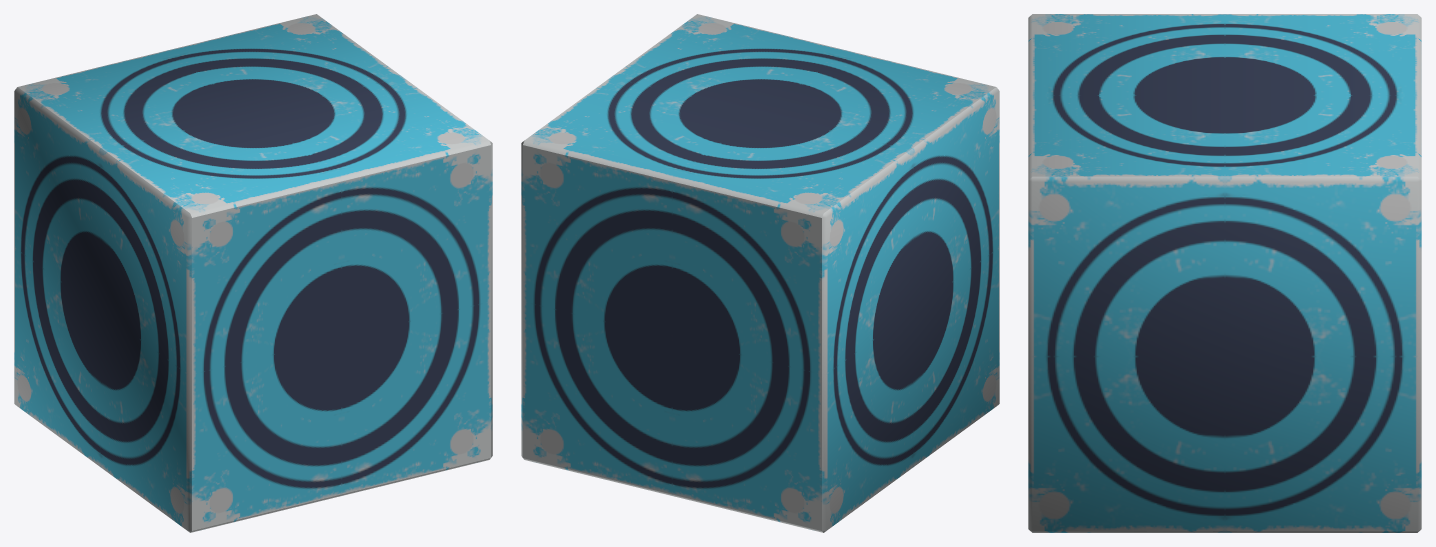
The model's file is box-special.gltf.
The picture shows the model from 3 angles, left to right: view 1: azimuth 30°, elevation 25°; view 2: azimuth 150°, elevation 25°; view 3: azimuth 270°, elevation 25°; orthographic projection. The views are drawn at different scales.
Parts seen in each view (by area): view 1: box_low; view 2: box_low; view 3: box_low.
Boxes of the visible parts, x1,y1,x2,y2 form: box_low: (14,14,492,532); box_low: (521,14,999,532); box_low: (1028,14,1421,532).
Bounding box in the file's own units: 60 × 60 × 60.
Materials: 1 (1 with a texture image).
